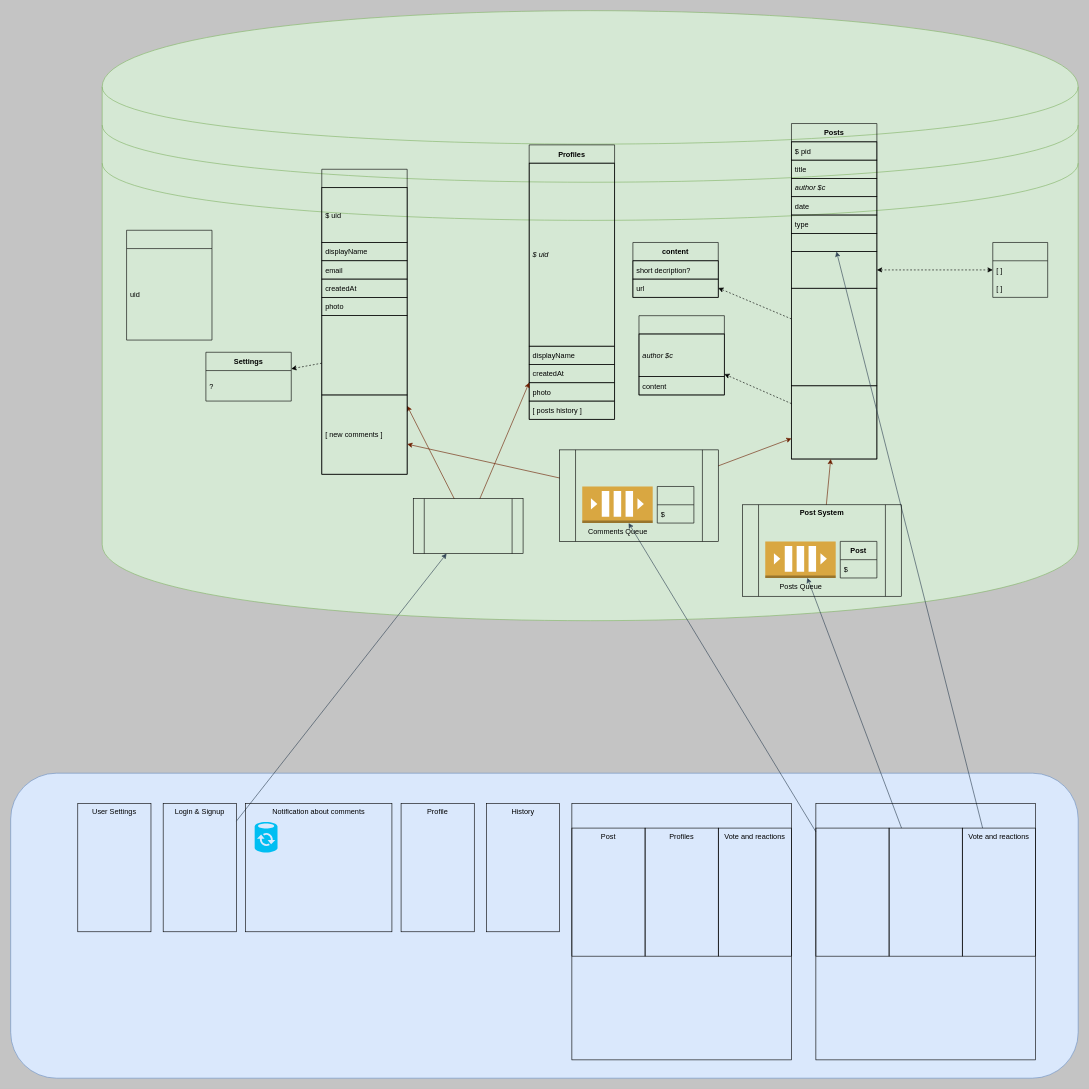
The diagram is 1089 pixels wide and 1089 high, and some of its shapes have lost their labels. The box of each missing label's shape, as (x1, y1, x2, y2) in pixels:
[ comments ] $: (791, 385, 877, 459)
Angular UI: (10, 773, 1078, 1078)
Authentication: (126, 230, 212, 340)
Comment: (657, 486, 694, 523)
Comment System: (559, 449, 718, 541)
Comments: (638, 315, 724, 395)
content $: (791, 288, 877, 386)
Explore posts: (571, 803, 791, 1060)
Firebase: (102, 10, 1078, 621)
New post: (888, 827, 962, 956)
New User (& updates): (413, 498, 523, 554)
Replies: (815, 827, 889, 956)
Tags: (992, 242, 1048, 297)
User Actions: (815, 803, 1035, 1060)
Users: (321, 169, 407, 474)
{ rank, count }: (791, 233, 877, 252)
{ settings }: (321, 315, 407, 395)
{ tags }: (791, 251, 877, 288)
